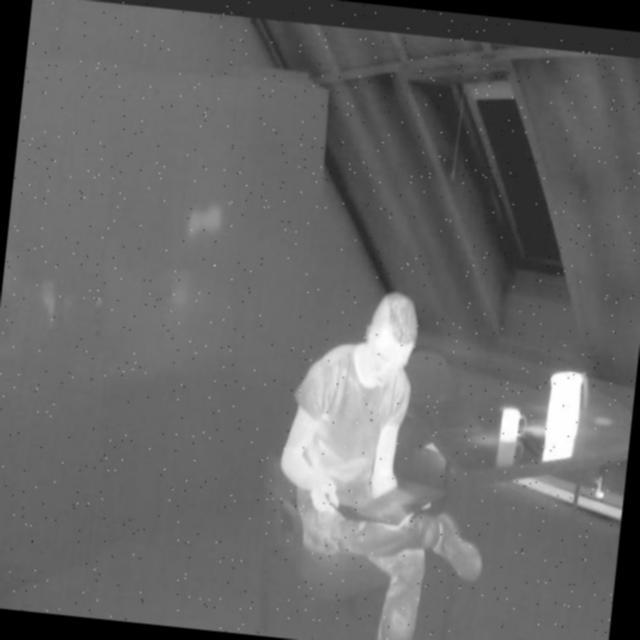person: (259, 271, 516, 640)
